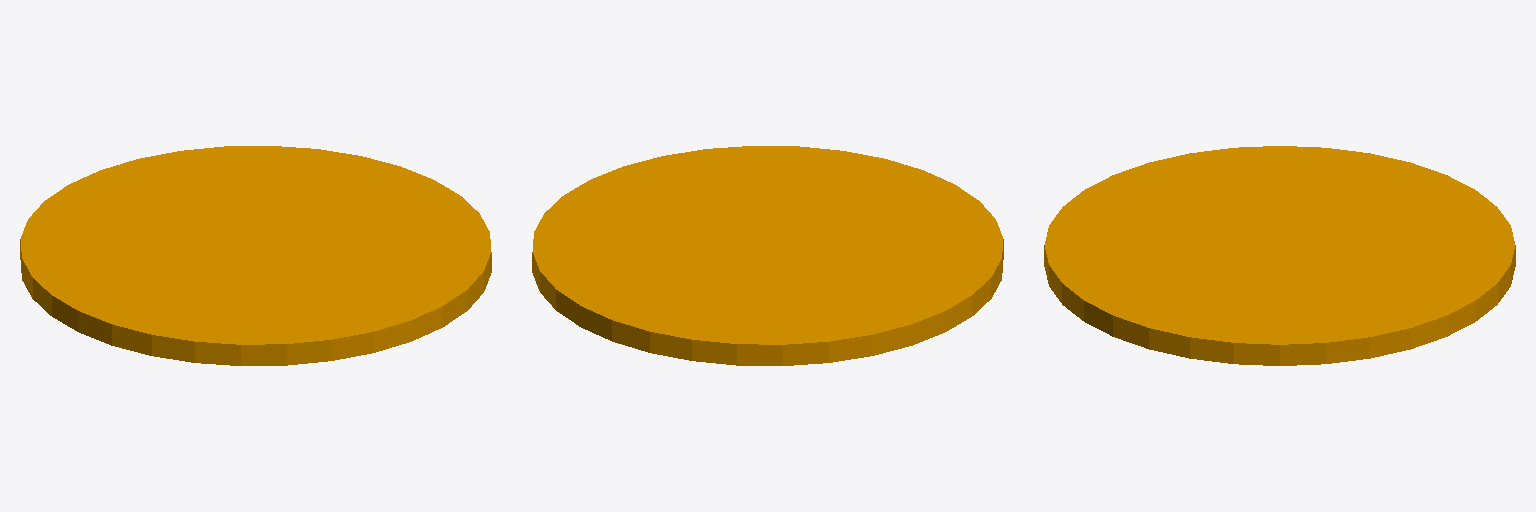
The robot description file, URDF, robot "box":
<?xml version="1.0" encoding="utf-8"?>

<robot name="box">
    <link name="box">
        <inertial>
            <origin rpy="0 0 0" xyz="0 0 0"/>
            <mass value="0.1"/>
            <inertia ixx="0.00025083" ixy="0" ixz="0" iyy="0.00025083" iyz="0" izz="0.0005"/>
        </inertial>
        <collision name="collision">
            <origin rpy="0 0 0" xyz="0 0 0.0"/>
            <geometry>
              <cylinder radius="0.1" length="0.01"/>
            </geometry>
        </collision>
        <collision name="middle_right">
              <geometry>
                <sphere radius="0.001"/>
              </geometry>
              <origin rpy="0 0 0" xyz="0.1 0.0 0.004"/>
            </collision>
          <collision name="top_left">
            <geometry>
              <sphere radius="0.001"/>
            </geometry>
            <origin rpy="0 0 0" xyz="-0.05 0.0866  0.004"/>
          </collision>
          <collision name="bottom_left">
            <geometry>
              <sphere radius="0.001"/>
            </geometry>
            <origin rpy="0 0 0" xyz="-0.05 -0.0866 0.004"/>
          </collision>
        <visual>
            <origin rpy="0 0 0" xyz="0 0 0.0"/>
            <geometry>
              <cylinder radius="0.1" length="0.01"/>
            </geometry>
        </visual>
    </link>
</robot>

--- Render facts (derived) ---
The picture shows the robot from 3 angles, left to right: view 1: azimuth 30°, elevation 25°; view 2: azimuth 150°, elevation 25°; view 3: azimuth 270°, elevation 25°; orthographic projection.
Robot: box — 1 links, 0 joints (none); root link box; default pose: every joint at zero.
Links seen in each view (by area): view 1: box; view 2: box; view 3: box.
Link boxes in pixels (<box>): box: <box>20,146,491,365</box>; box: <box>532,146,1003,365</box>; box: <box>1044,146,1515,365</box>.
Size in the robot's own frame: 0.2 by 0.2 by 0.01 metres.
Geometry: primitives only (box / cylinder / sphere), no mesh files.